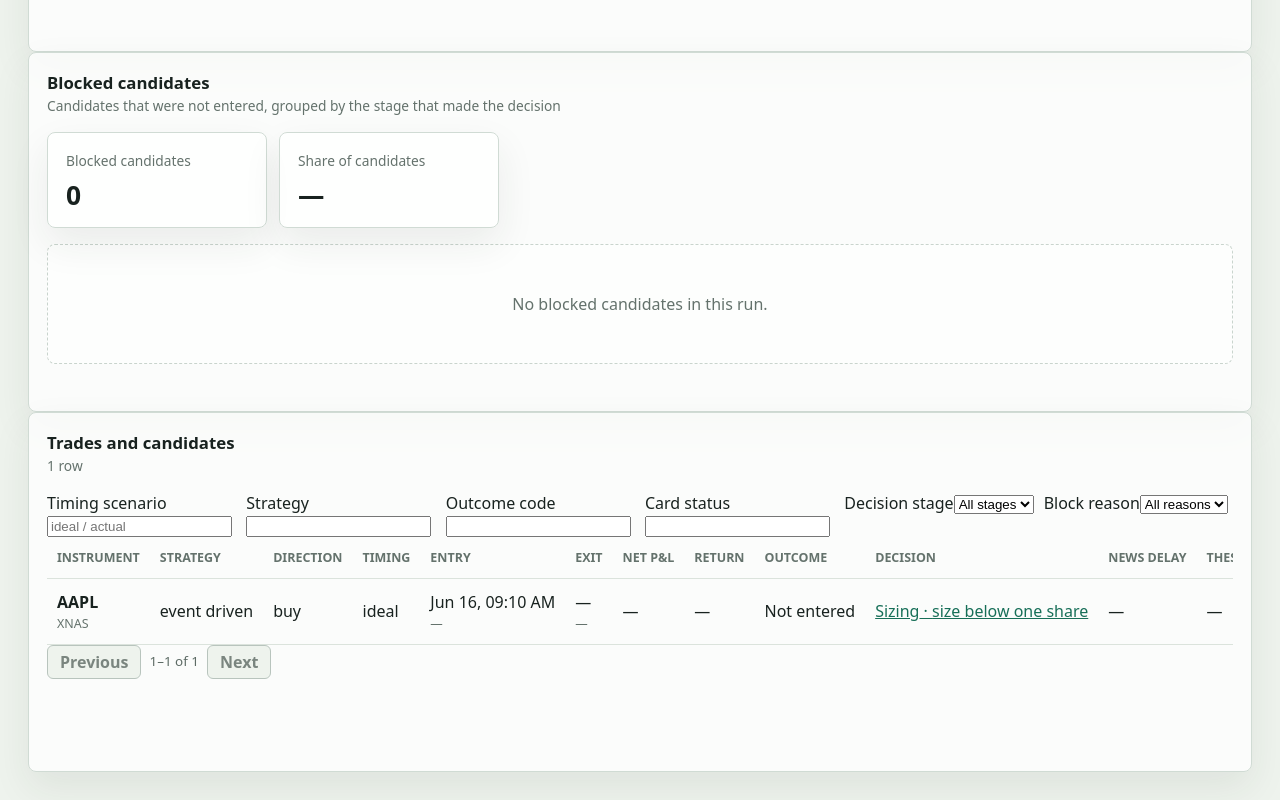
Test: BacktesterTab › renders a structured blocked-candidate explanation with operands and a related link
(page scrolled)
Click the button "Sizing · size below one share" at (982, 611), box x1=875 y1=600 x2=1088 y2=622
(page scrolled)
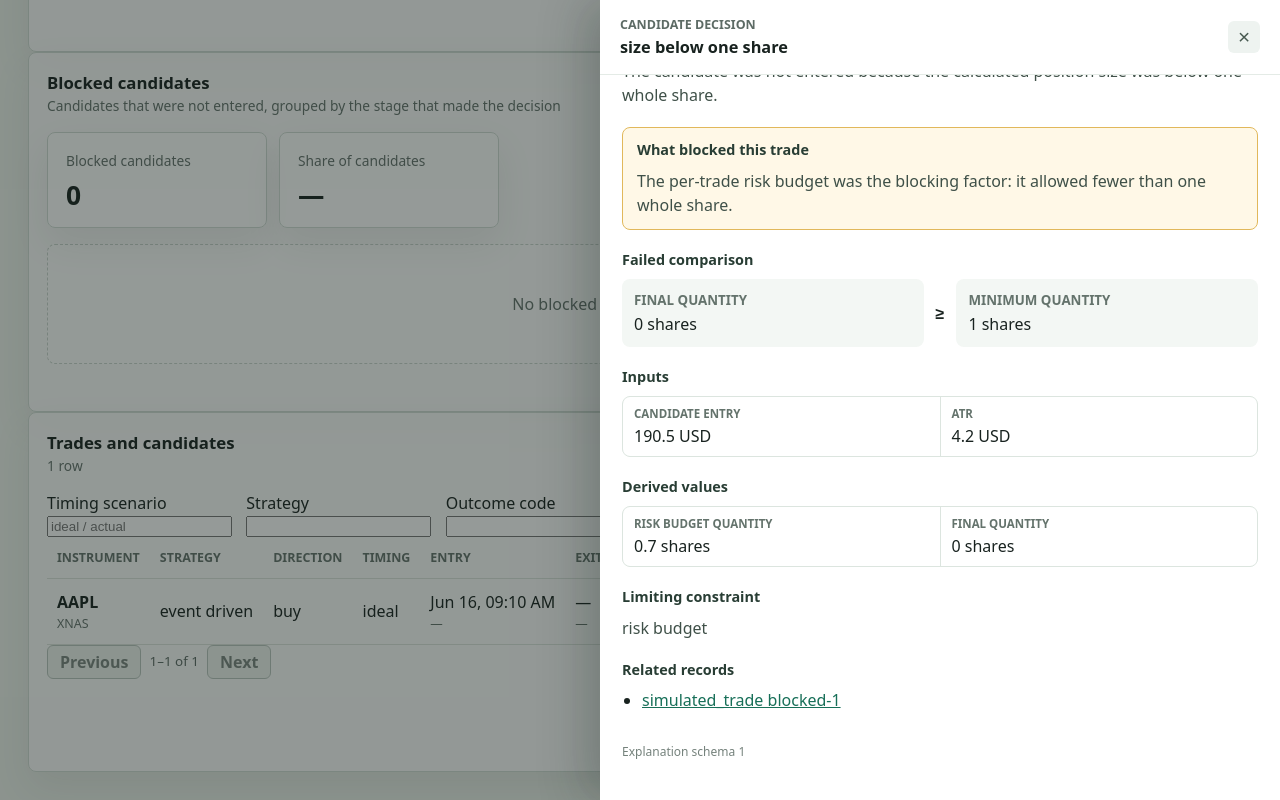
Expected: the dialog named "Blocked candidate explanation" shows "calculated position size was below one whole share", x1=622 y1=60 x2=1242 y2=106
Expected: the dialog named "Blocked candidate explanation" shows "0 shares", x1=634 y1=313 x2=697 y2=335
Expected: the dialog named "Blocked candidate explanation" shows "1 shares", x1=968 y1=313 x2=1031 y2=335
